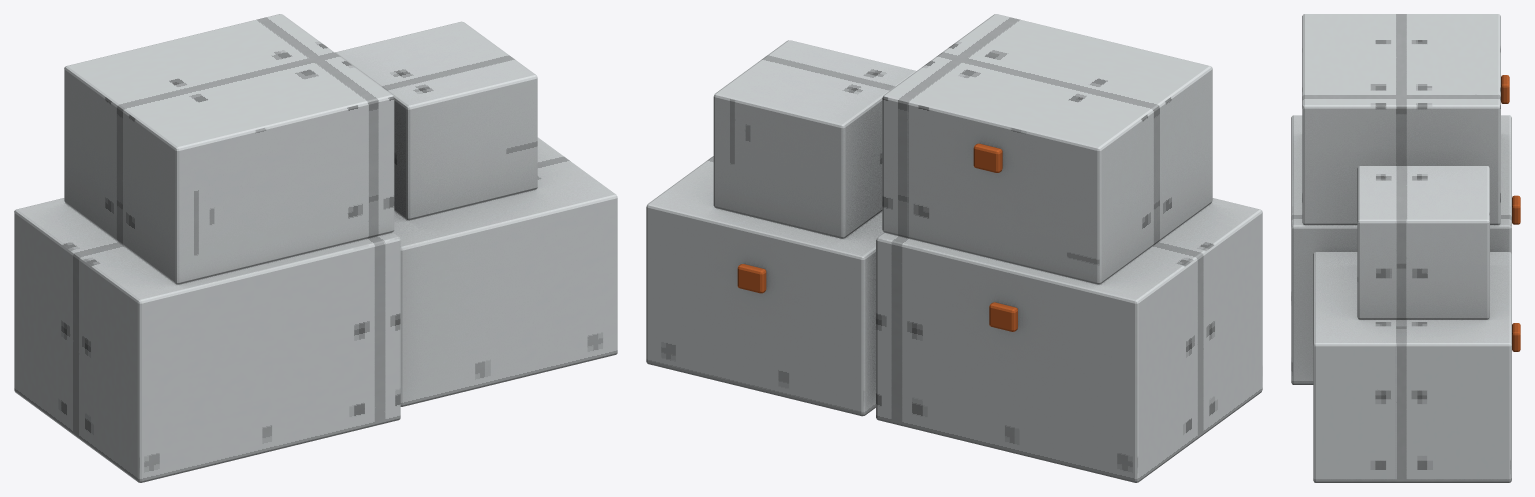
Rendered from base_crate_stack.glb.
3 views of the same model, side by side, from view 1: azimuth 30°, elevation 25°; view 2: azimuth 150°, elevation 25°; view 3: azimuth 270°, elevation 25° (orthographic). The views are drawn at different scales.
Parts seen in each view (by area): view 1: base_crate_stack.001; view 2: base_crate_stack.001; view 3: base_crate_stack.001.
Boxes of the visible parts, left/top/right/bottom form: base_crate_stack.001: left=14, top=14, right=617, bottom=482; base_crate_stack.001: left=646, top=14, right=1262, bottom=482; base_crate_stack.001: left=1291, top=14, right=1520, bottom=482.
Bounding box in the file's own units: 2.25 × 1.4 × 1.04.
2 materials, 2 textured.
